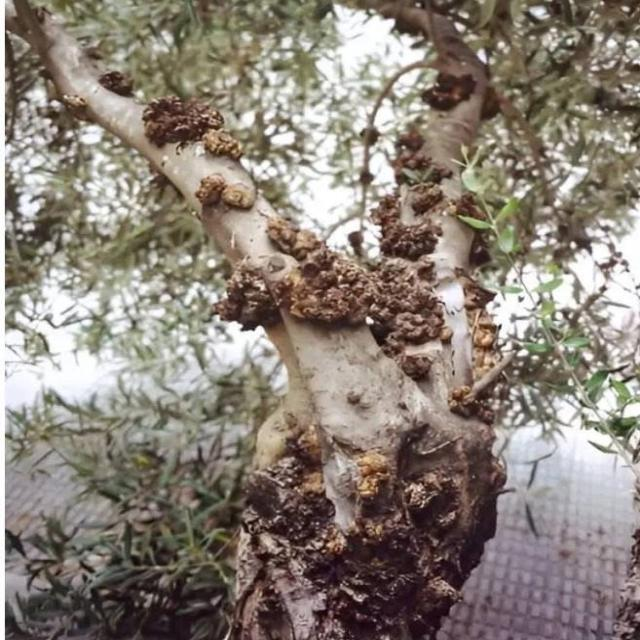Tuberculosis: (214, 217, 450, 382), (371, 130, 451, 261), (143, 96, 243, 161), (196, 174, 256, 210), (99, 70, 134, 97)
